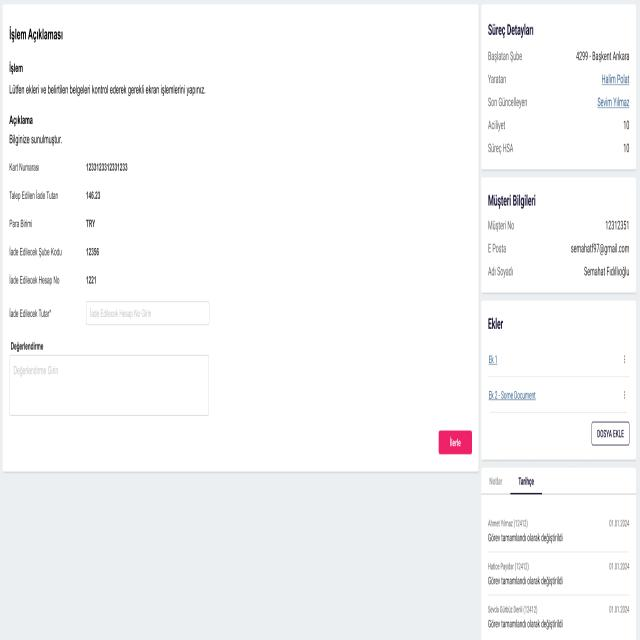QLabel: (8, 82, 206, 98), (8, 24, 64, 44), (486, 616, 563, 629), (486, 21, 535, 40), (487, 574, 564, 586), (488, 532, 563, 544), (486, 192, 536, 209), (570, 242, 630, 256), (574, 48, 630, 63), (8, 132, 64, 146), (8, 244, 63, 258), (581, 264, 632, 278), (8, 273, 60, 285), (488, 389, 536, 402), (8, 188, 59, 200), (487, 48, 523, 64), (8, 306, 54, 318), (487, 95, 527, 108), (85, 161, 128, 173), (601, 72, 630, 88), (596, 95, 631, 108), (488, 518, 528, 529), (8, 160, 42, 172), (10, 341, 44, 352), (486, 218, 514, 231), (487, 142, 514, 155), (8, 114, 34, 127), (596, 427, 624, 439), (487, 265, 514, 277), (605, 219, 629, 232), (8, 217, 33, 228), (487, 316, 504, 332), (8, 60, 24, 76), (85, 187, 102, 202), (487, 242, 508, 254), (487, 118, 506, 131), (608, 560, 631, 570), (608, 604, 631, 614), (487, 73, 507, 84), (608, 518, 630, 527), (518, 477, 534, 488), (488, 476, 503, 487), (449, 436, 461, 448), (86, 246, 100, 256), (85, 218, 96, 229), (488, 354, 498, 366), (86, 275, 97, 284), (623, 119, 630, 131), (623, 141, 630, 153)
VBtn: (591, 421, 630, 446), (438, 429, 473, 456)
VCard: (2, 2, 479, 475), (482, 467, 636, 640), (481, 3, 637, 172), (481, 299, 636, 462), (481, 176, 637, 294)
VDivider: (486, 374, 630, 380), (490, 410, 628, 414)
VIcon: (623, 354, 626, 365), (623, 390, 626, 400)
VTab: (510, 473, 542, 491), (483, 472, 509, 491)
VTabs: (482, 468, 636, 496)
VTextField: (85, 300, 210, 326)
VTextarea: (9, 354, 210, 417)
